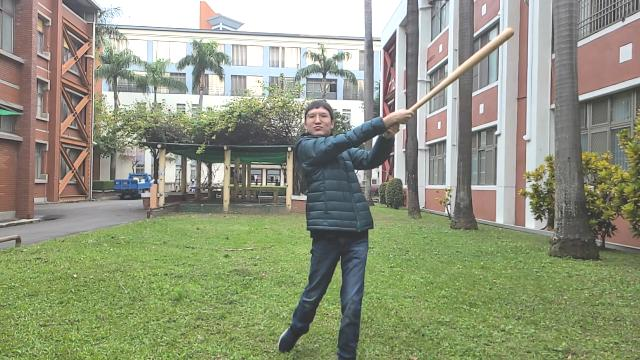baseball bat: (410, 27, 514, 113)
